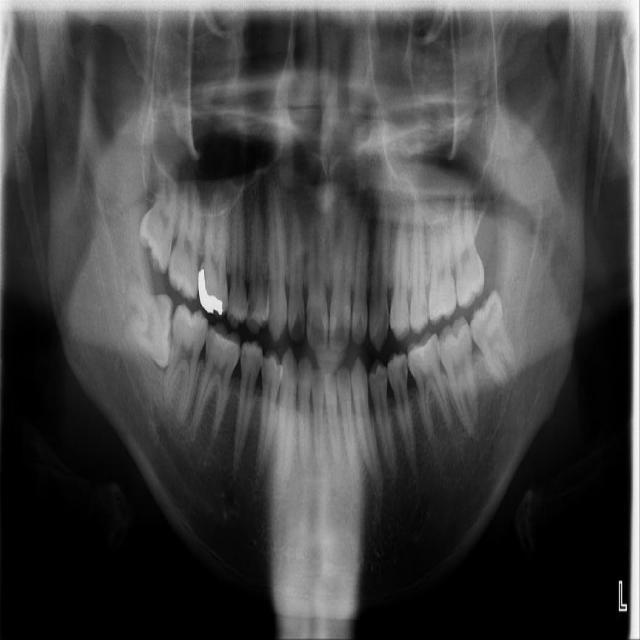3M ESPE Implant: (132, 162, 185, 276)
52: (197, 260, 229, 319), (305, 295, 330, 350), (328, 299, 352, 352)
73: (602, 575, 612, 589)
BioHorizons Implant: (449, 180, 487, 309)
Biomet 3i Implant: (461, 289, 521, 390)
Blue Sky Bio Implant: (435, 316, 480, 439)
Caries: (166, 167, 207, 302)
Implant: (158, 302, 212, 427)
Keystone Dental Implant: (122, 283, 179, 367)
